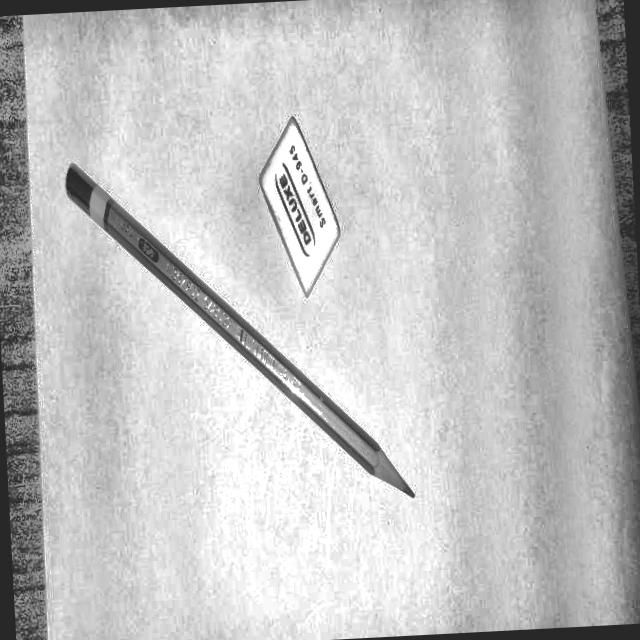eraser: (218, 103, 371, 336)
